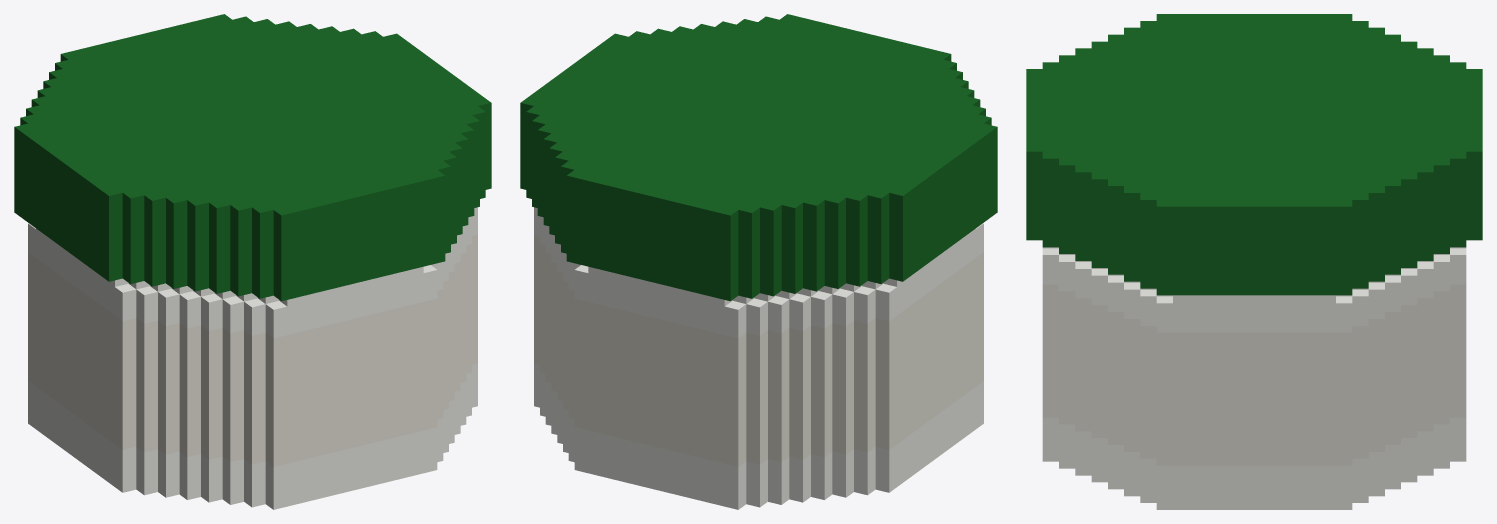
Rendered from wintergreen_ointment.glb.
The picture shows the model from 3 angles, left to right: view 1: azimuth 30°, elevation 25°; view 2: azimuth 150°, elevation 25°; view 3: azimuth 270°, elevation 25°; orthographic projection. The views are drawn at different scales.
Visible parts, largest first — view 1: wintergreen_ointment:compound; view 2: wintergreen_ointment:compound; view 3: wintergreen_ointment:compound.
Boxes of the visible parts, box(x1,y1,x2,y2) form: wintergreen_ointment:compound: box(14, 14, 491, 509); wintergreen_ointment:compound: box(520, 14, 997, 509); wintergreen_ointment:compound: box(1026, 14, 1482, 509).
Size of the model in its own units: 0.056 by 0.042 by 0.056.
